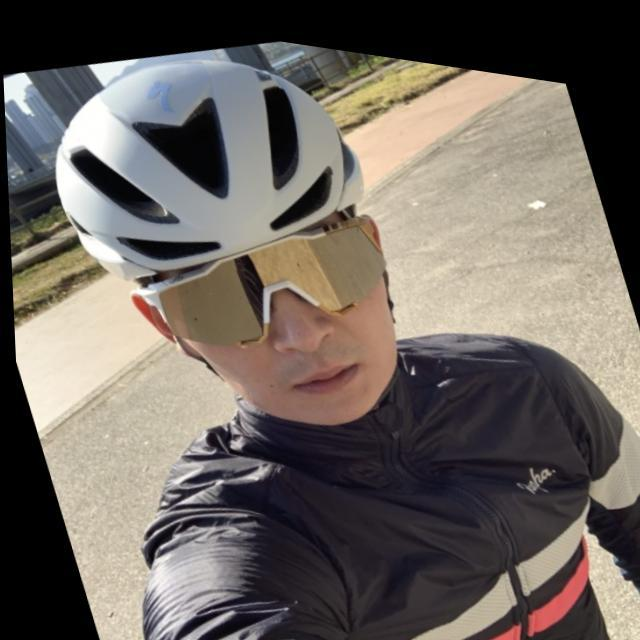Helmet: (52, 55, 405, 427)
